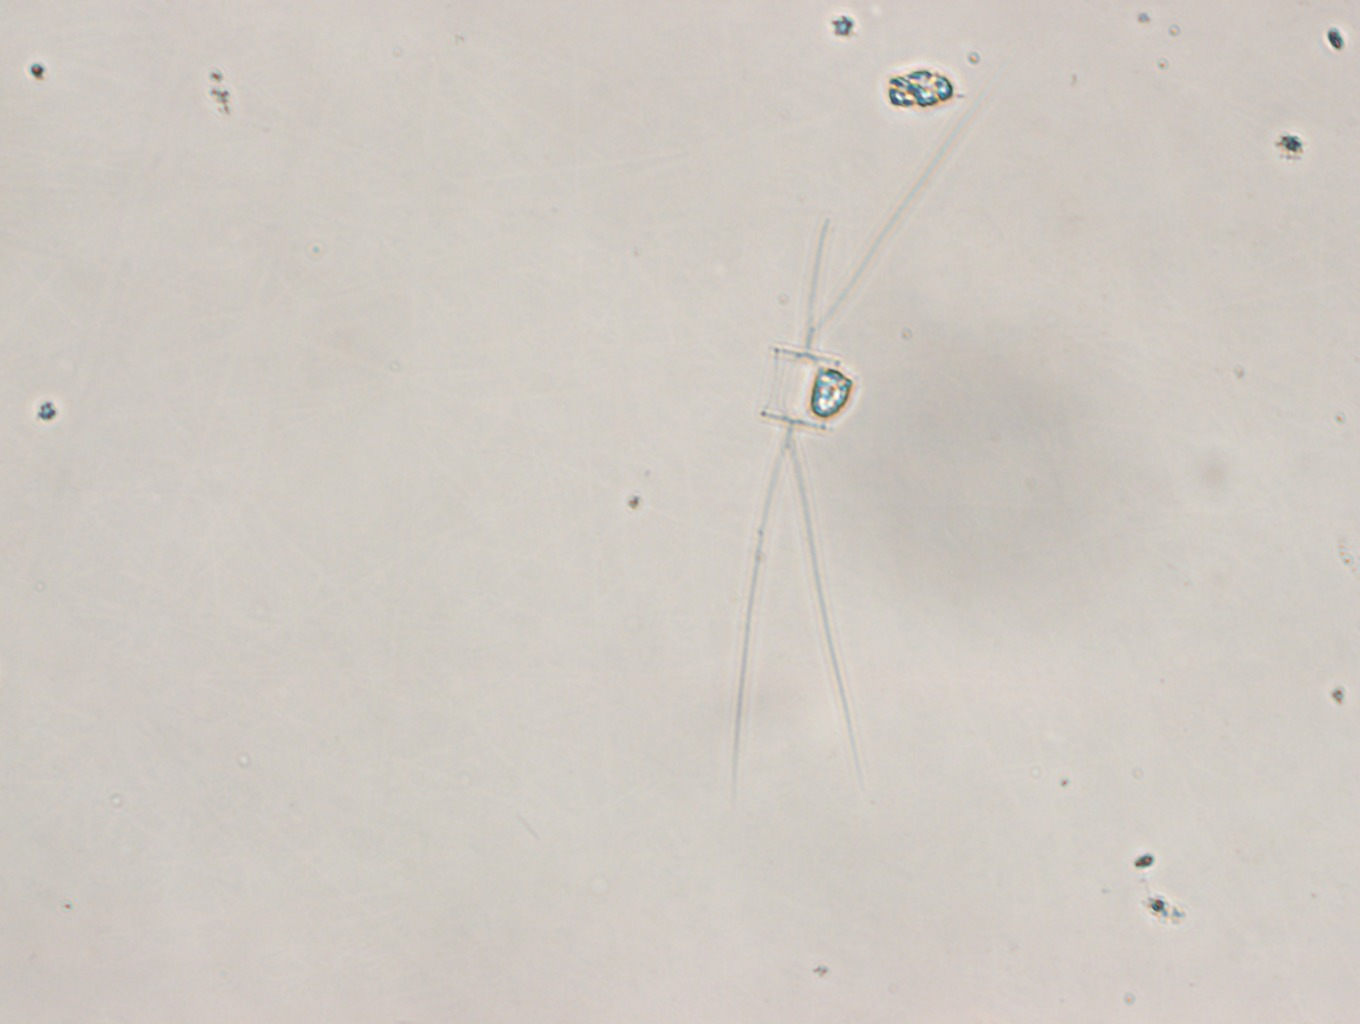chaetoceros: (733, 56, 1006, 781)
